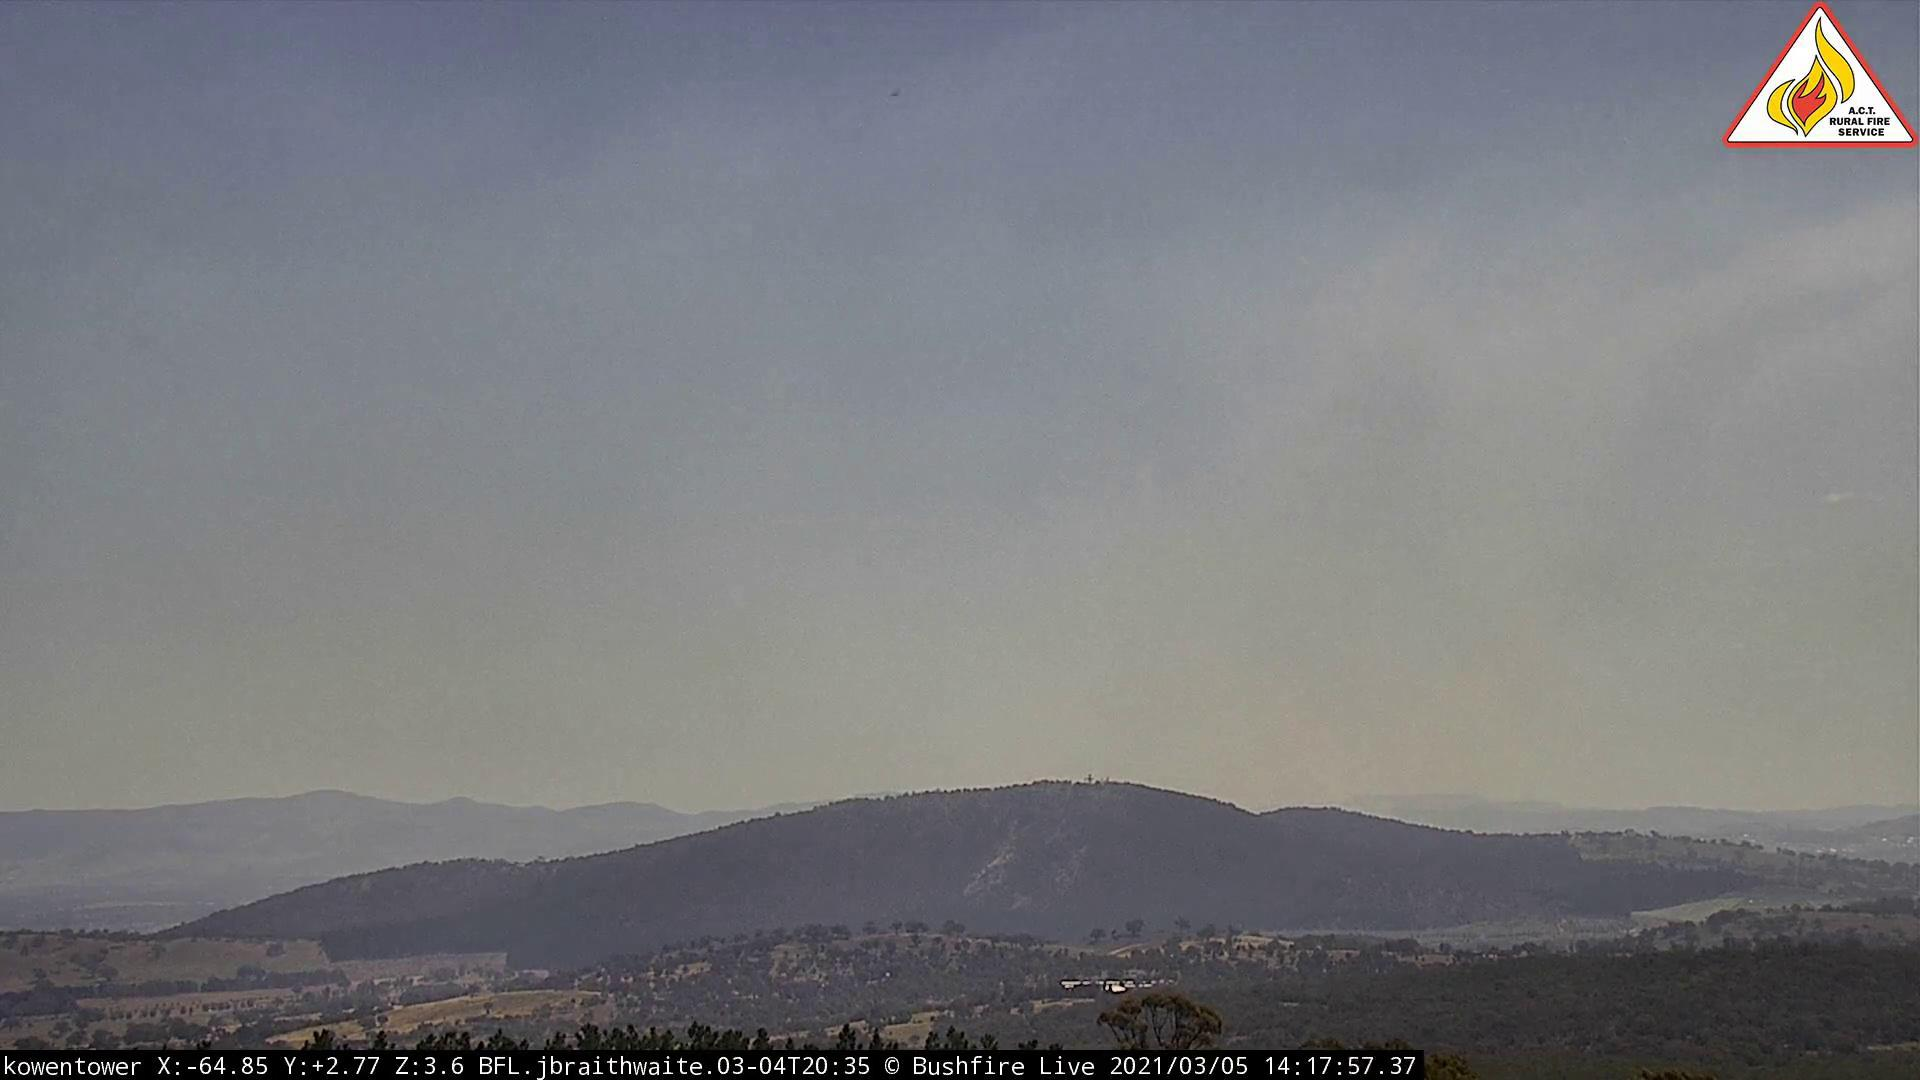instance_salient_object: (1298, 662, 1614, 837)
